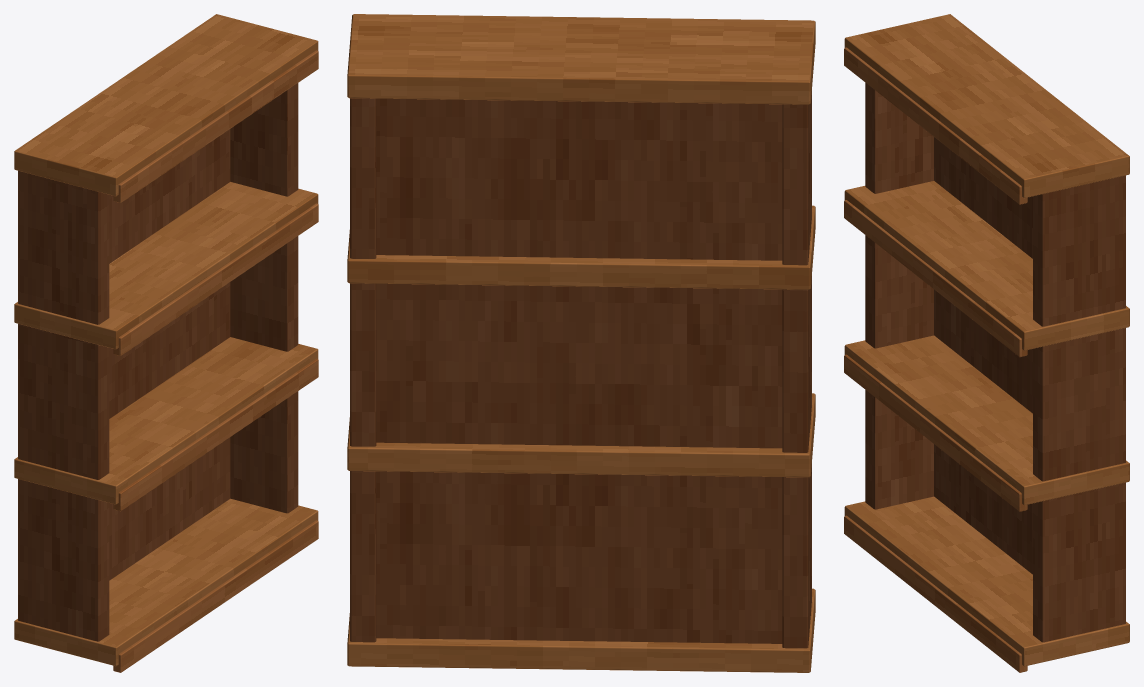
Rendered from LeftCabinet.glb.
The picture shows the model from 3 angles, left to right: view 1: azimuth 30°, elevation 25°; view 2: azimuth 150°, elevation 25°; view 3: azimuth 270°, elevation 25°; orthographic projection. The views are drawn at different scales.
Visible parts, largest first — view 1: LeftCabinet.Carcass, LeftCabinet.Shelf.3, LeftCabinet.Shelf.0, LeftCabinet.Shelf.1, LeftCabinet.Shelf.2; view 2: LeftCabinet.Carcass, LeftCabinet.Shelf.3, LeftCabinet.Shelf.1, LeftCabinet.Shelf.0, LeftCabinet.Shelf.2; view 3: LeftCabinet.Carcass, LeftCabinet.Shelf.3, LeftCabinet.Shelf.0, LeftCabinet.Shelf.1, LeftCabinet.Shelf.2.
Part boxes in pixels (x1,y1,x2,y2): LeftCabinet.Carcass: (18,83,298,641); LeftCabinet.Shelf.3: (14,14,318,202); LeftCabinet.Shelf.0: (14,498,318,672); LeftCabinet.Shelf.1: (14,337,318,511); LeftCabinet.Shelf.2: (14,182,318,355); LeftCabinet.Carcass: (350,91,811,648); LeftCabinet.Shelf.3: (347,14,815,104); LeftCabinet.Shelf.1: (347,393,815,477); LeftCabinet.Shelf.0: (347,588,815,672); LeftCabinet.Shelf.2: (347,205,815,289); LeftCabinet.Carcass: (865,83,1125,642); LeftCabinet.Shelf.3: (844,14,1129,204); LeftCabinet.Shelf.0: (844,496,1129,672); LeftCabinet.Shelf.1: (844,335,1129,511); LeftCabinet.Shelf.2: (844,181,1129,356).
Size of the model in its own units: 1.66 by 2.3 by 1.21.
Materials: 3 (3 with a texture image).
